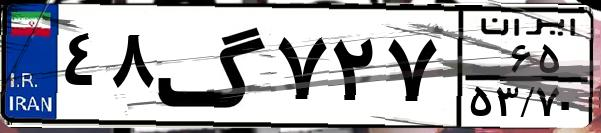0: (560, 70, 590, 125)
2: (330, 28, 385, 110)
3: (495, 70, 520, 125)
4: (57, 26, 110, 100)
5: (537, 27, 568, 80), (470, 70, 495, 125)
6: (508, 27, 537, 80)
7: (270, 28, 330, 110), (385, 28, 445, 110), (535, 70, 560, 125)
8: (110, 28, 156, 98)
گ: (156, 12, 270, 120)
